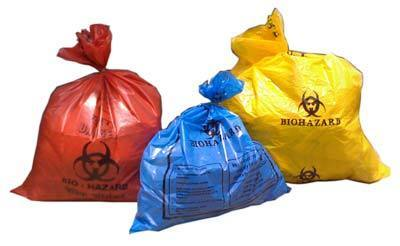plastic_bag: (220, 5, 393, 190), (8, 21, 164, 204), (128, 68, 293, 237)
